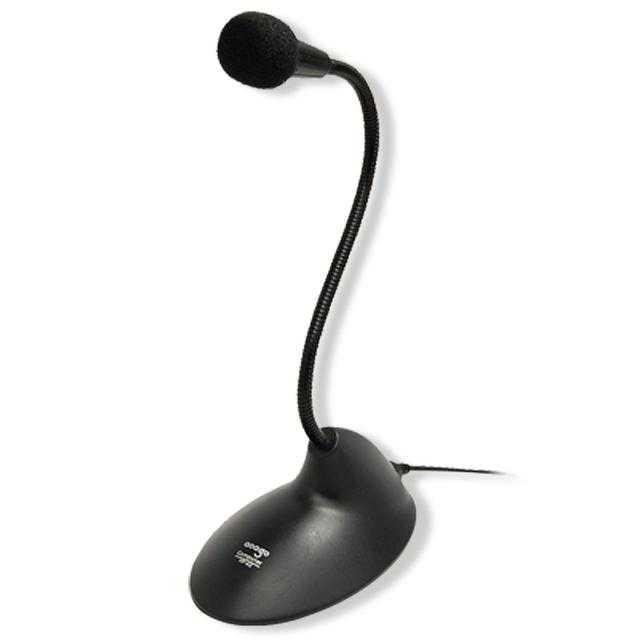microphone: (180, 4, 423, 140)
